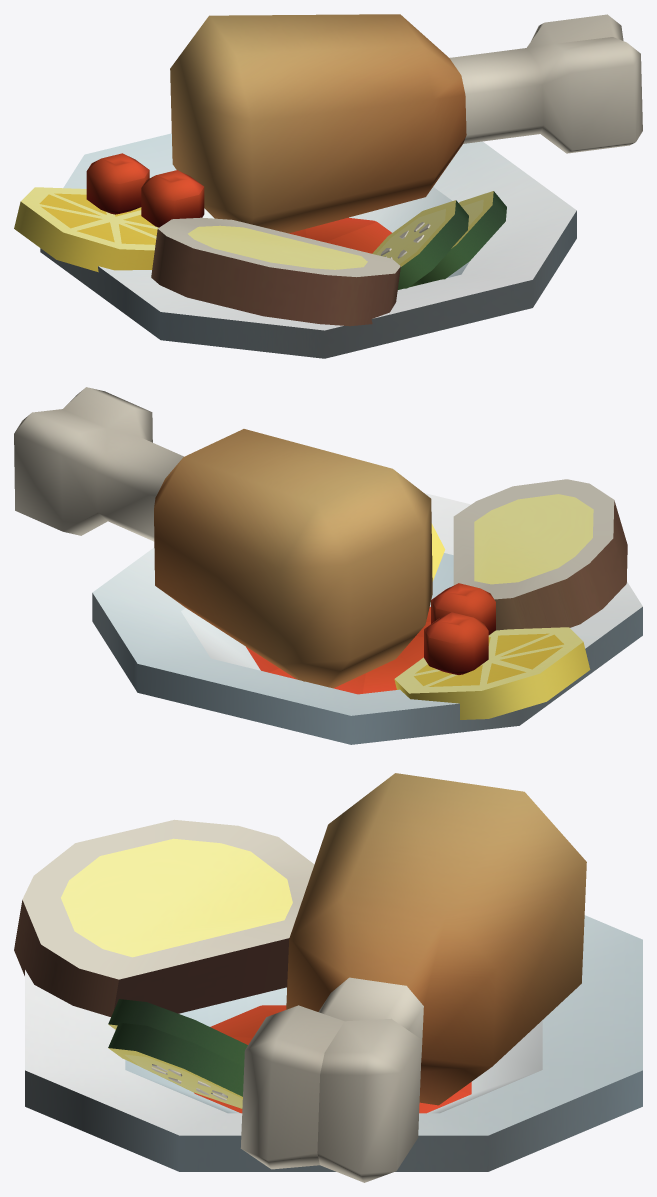
File: plate_chicken_dish.fbx
3 views of the same model, one above another, from view 1: azimuth 30°, elevation 25°; view 2: azimuth 150°, elevation 25°; view 3: azimuth 270°, elevation 25° (orthographic). The views are drawn at different scales.
Visible parts, largest first — view 1: plate_chicken_dish; view 2: plate_chicken_dish; view 3: plate_chicken_dish.
Boxes of the visible parts, <box> form: plate_chicken_dish: <box>14,14,642,358</box>; plate_chicken_dish: <box>14,387,642,744</box>; plate_chicken_dish: <box>14,773,642,1182</box>.
Size of the model in its own units: 69.54 by 26.23 by 52.62.
